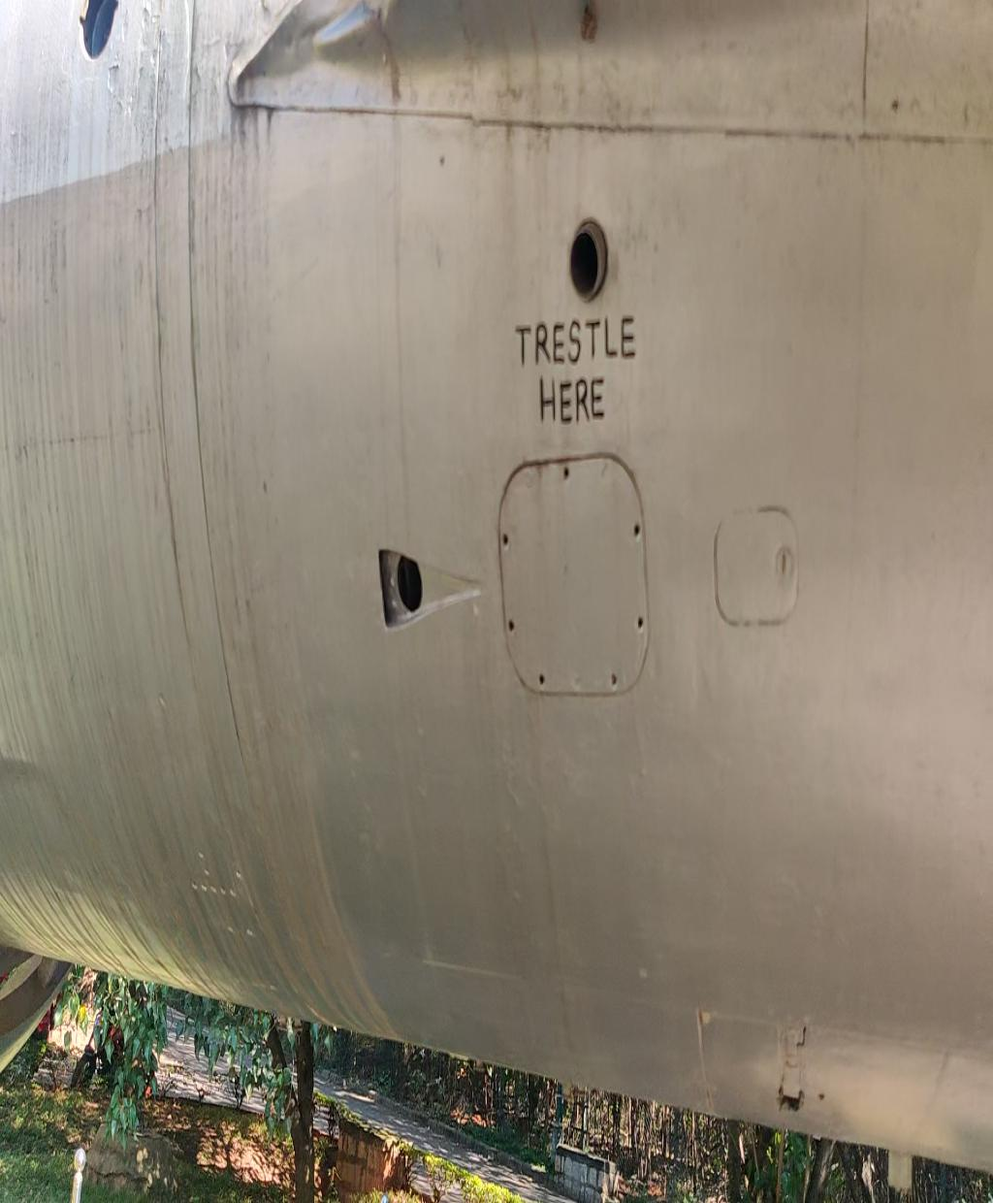dent: (243, 0, 402, 77)
